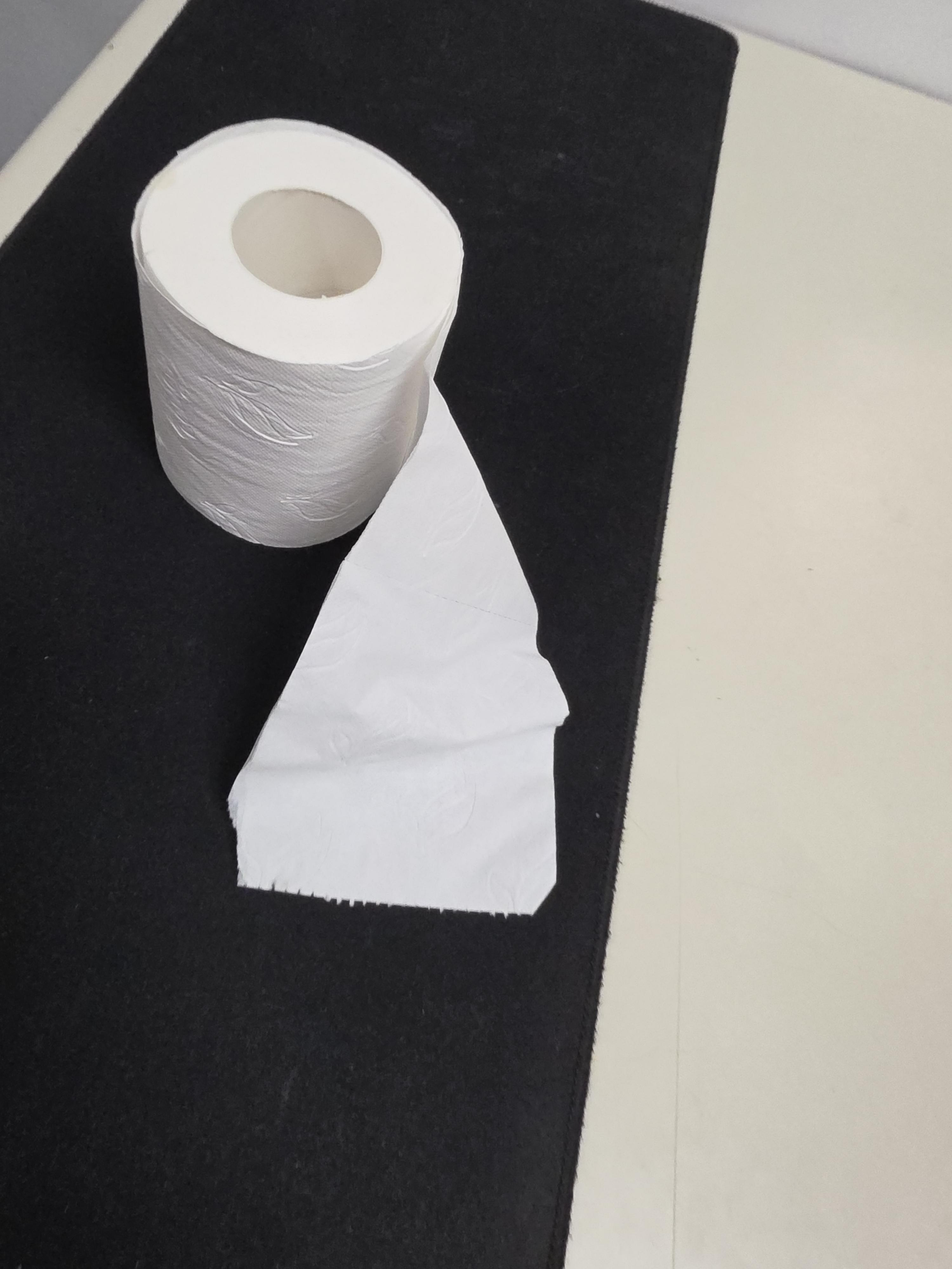tissue: (130, 118, 570, 917)
